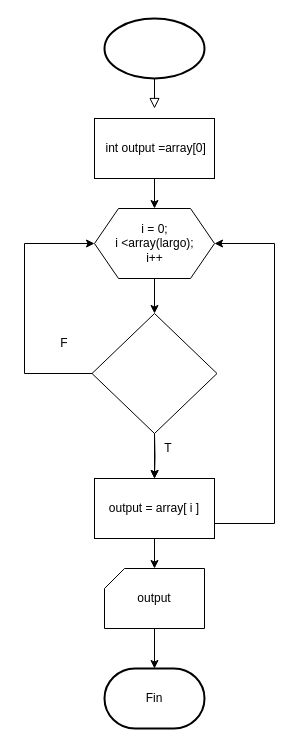
The diagram is 300 pixels wide and 746 high, and some of its shapes have lost their labels. The centre of each missing label's shape, as x and y in pixels:
"Inicio" goes at [154,48].
"¿array[ i ]< ouput?" goes at [154,373].
